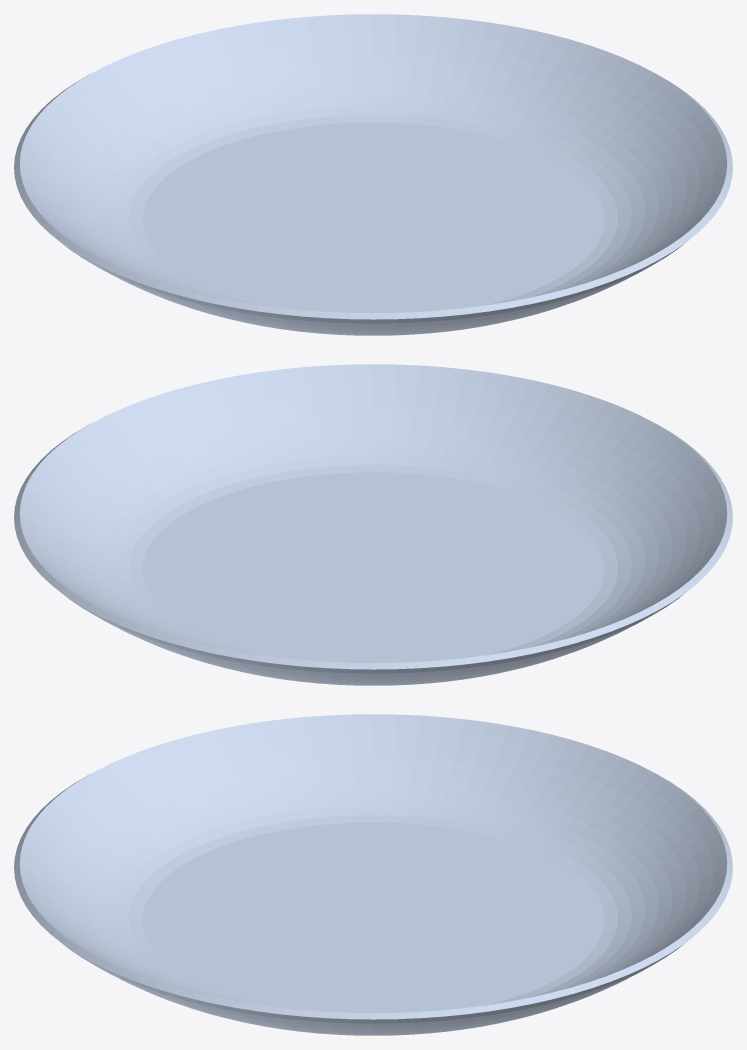
Rendered from plate.glb.
3 views of the same model, one above another, from view 1: azimuth 30°, elevation 25°; view 2: azimuth 150°, elevation 25°; view 3: azimuth 270°, elevation 25° (orthographic).
Parts seen in each view (by area): view 1: geometry_0; view 2: geometry_0; view 3: geometry_0.
Boxes of the visible parts, x1,y1,x2,y2 form: geometry_0: [14, 14, 732, 335]; geometry_0: [14, 364, 732, 685]; geometry_0: [14, 714, 732, 1035].
Size of the model in its own units: 0.249 by 0.03 by 0.249.
